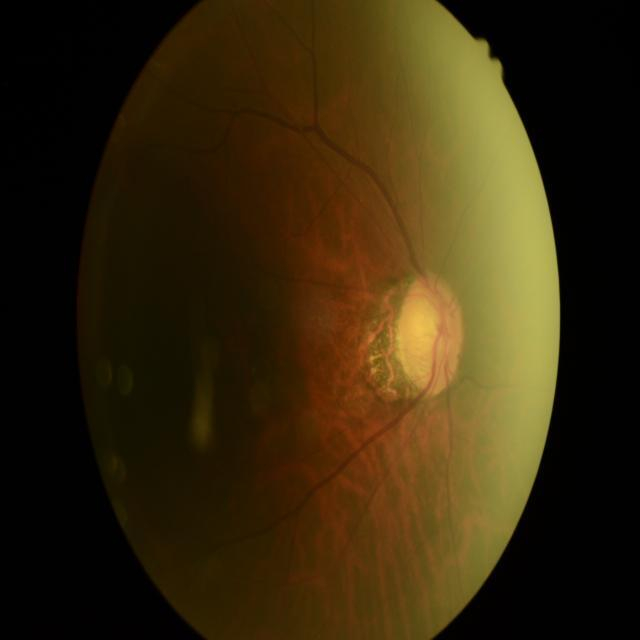cup: (400, 288, 450, 386)
disk: (396, 268, 464, 396)
